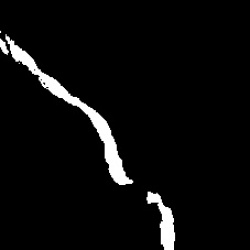crack: (7, 38, 133, 187), (148, 192, 174, 248), (1, 29, 9, 52)
